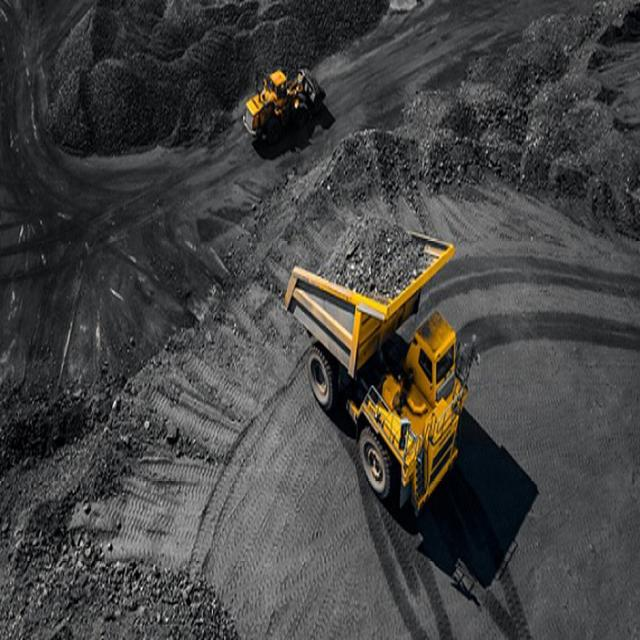buldozerpayloadergrader: (238, 64, 328, 149)
dump_truck: (290, 206, 472, 522)
